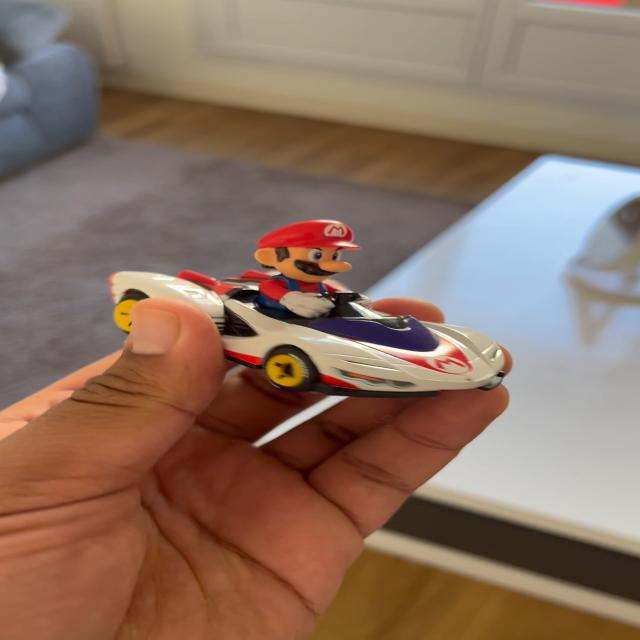mario: (80, 210, 529, 400)
